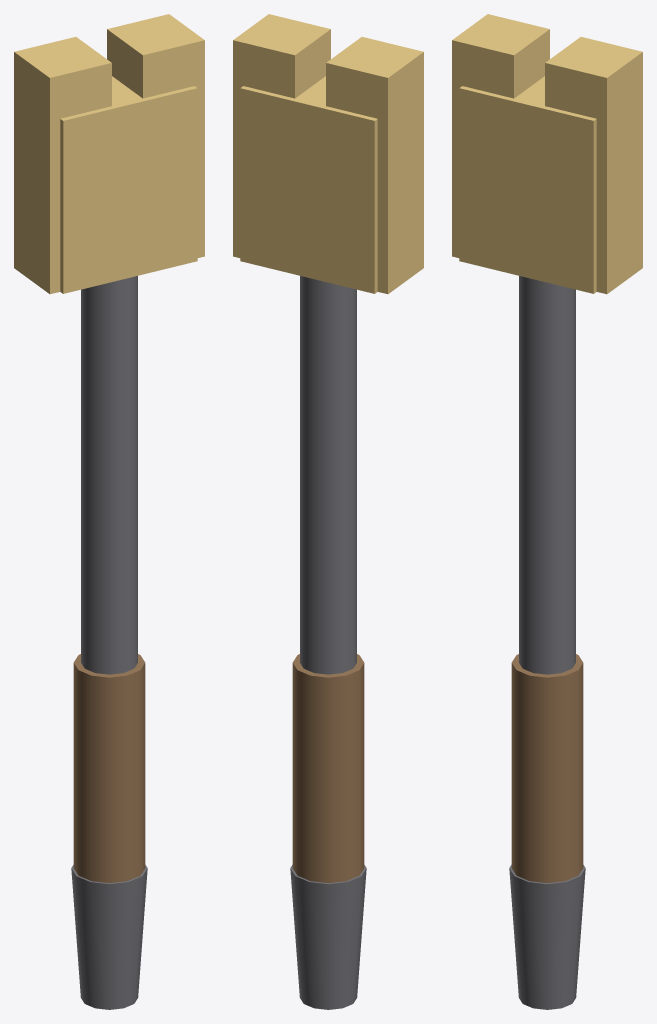
The model's file is wrench_heavy.glb.
3 renders of one model, left to right at view 1: azimuth 30°, elevation 25°; view 2: azimuth 150°, elevation 25°; view 3: azimuth 330°, elevation 25°, orthographic.
Parts seen in each view (by area): view 1: head, handle, grip; view 2: head, handle, grip; view 3: head, handle, grip.
Boxes of the visible parts, x1,y1,x2,y2 form: head: (14, 14, 204, 294); handle: (71, 276, 147, 1009); grip: (73, 654, 145, 883); head: (233, 14, 423, 294); handle: (290, 276, 366, 1009); grip: (292, 654, 364, 883); head: (452, 14, 642, 294); handle: (509, 276, 585, 1009); grip: (511, 654, 583, 883).
Bounding box in the file's own units: 0.15 × 0.88 × 0.07.
